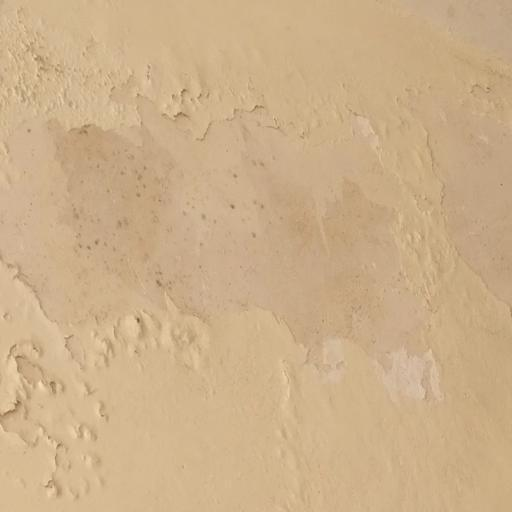peeling: (0, 43, 512, 463)
